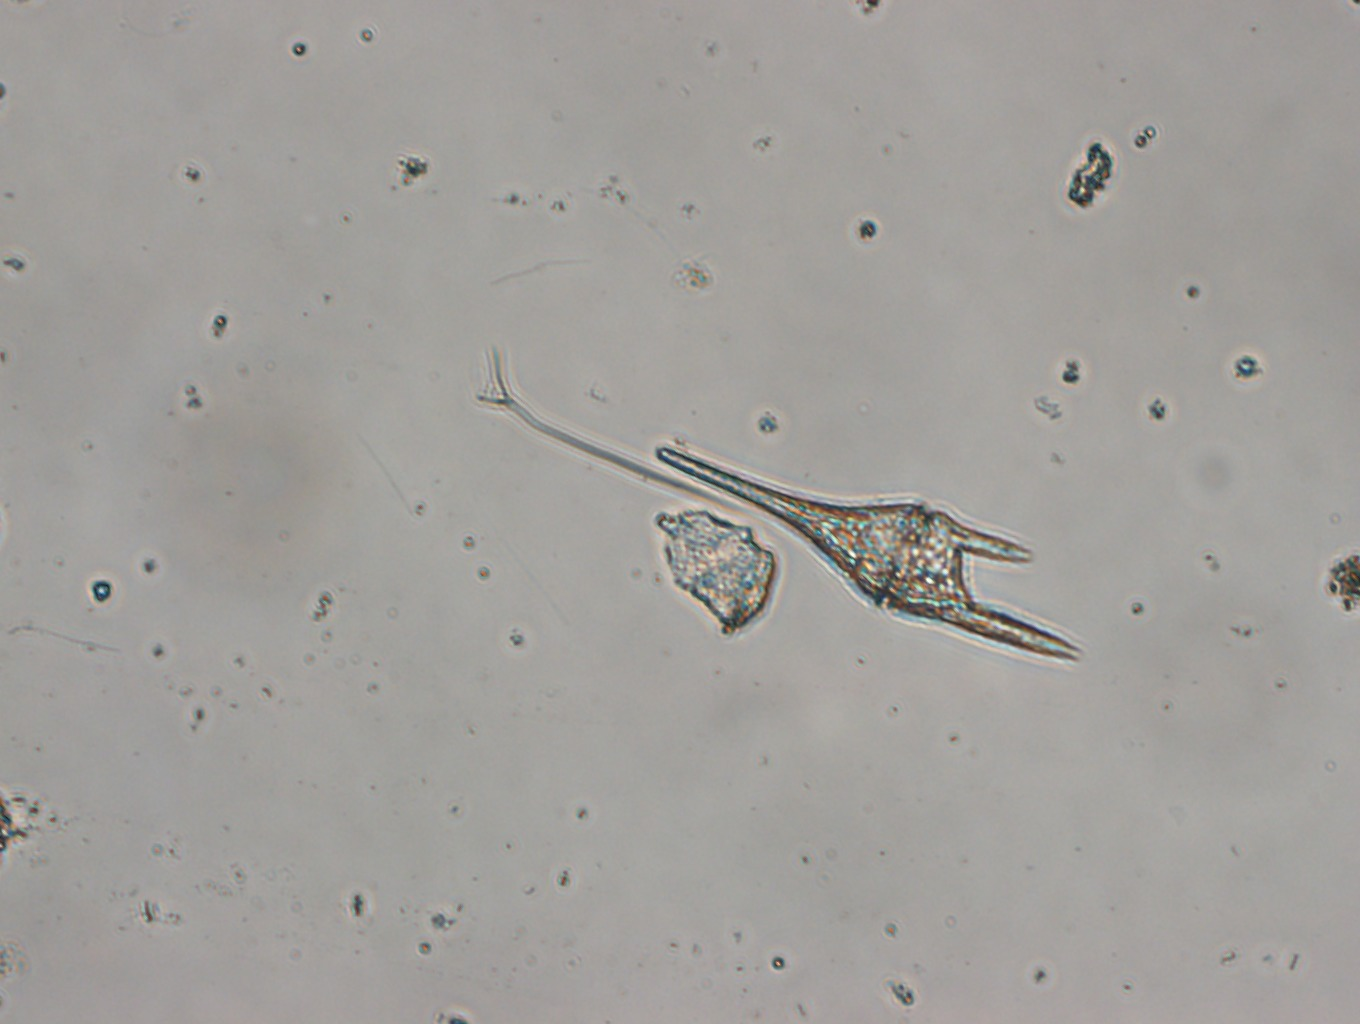ceratium furca: (657, 437, 1094, 673)
